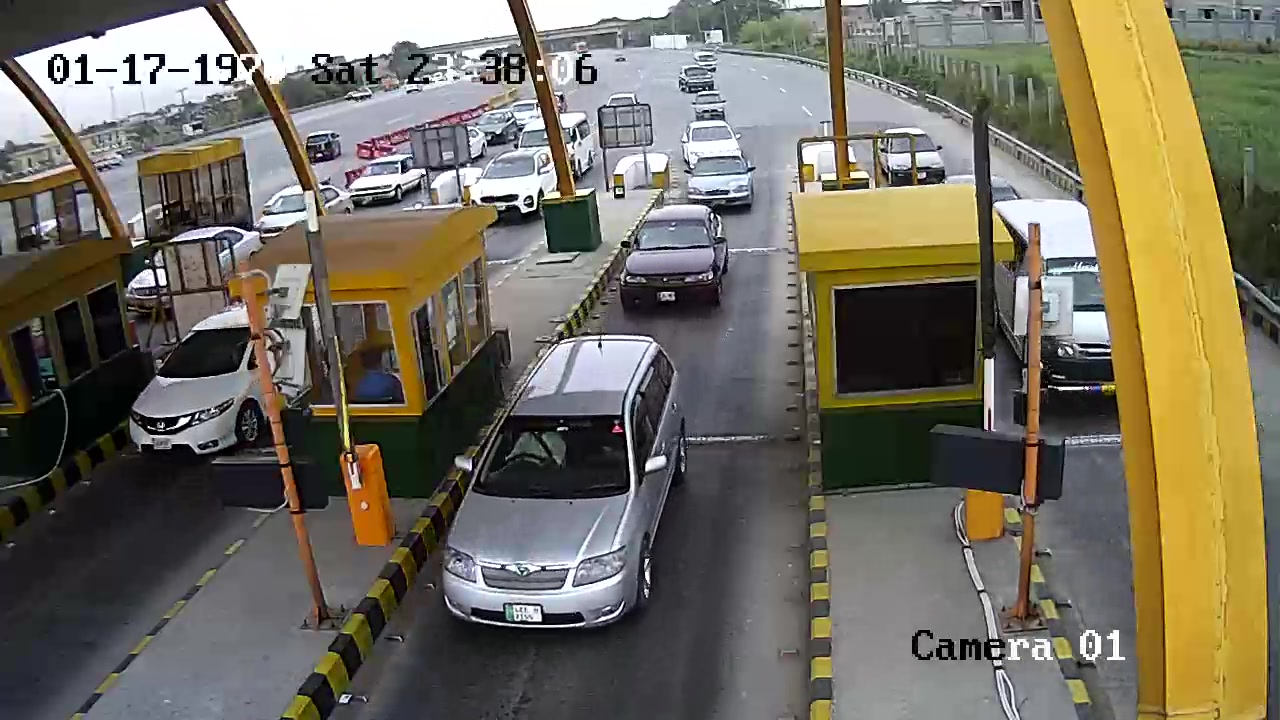F1: (427, 331, 721, 641), (603, 202, 740, 323)
